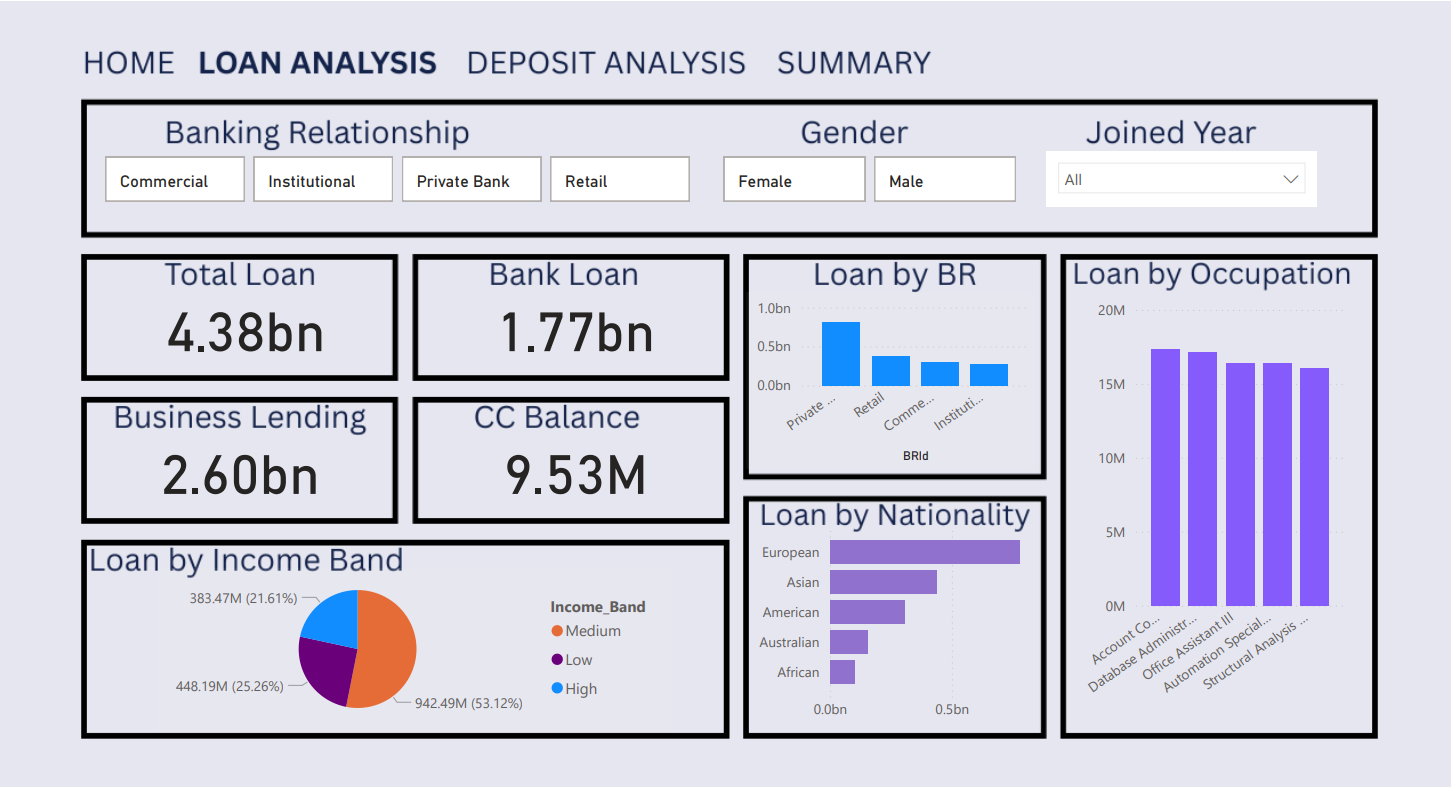

The page's visual inventory and layout, read from the dashboard file:
{"tool":"powerbi","page":{"name":"Loan Analysis","canvas":[1280,720],"ordinal":1},"visuals":[{"type":"actionButton","box":[61.4,31.9,99.4,40.5],"z":0},{"type":"card","fields":{"Values":["Sum(Banking.Business_Lending)"]},"box":[111.7,380.4,198.8,58.9],"z":1000},{"type":"card","fields":{"Values":["Banking.Total Loan"]},"box":[122.1,255.2,188,59],"z":2000},{"type":"card","fields":{"Values":["Sum(Banking.Bank_Loans)"]},"box":[410.3,255.2,189.4,59],"z":3000},{"type":"card","fields":{"Values":["Sum(Banking.Credit_Card_Balance)"]},"box":[410.3,380.1,189.4,59],"z":4000},{"type":"pieChart","fields":{"Category":["Banking.Income_Band"],"Y":["Sum(Banking.Bank_Loans)"]},"box":[139.9,496.9,449.1,142.3],"z":5000},{"type":"clusteredColumnChart","fields":{"Category":["Banking.BRId"],"Y":["Sum(Banking.Bank_Loans)"]},"box":[655.2,255.2,252.8,154.6],"z":6000},{"type":"barChart","fields":{"Category":["Banking.Nationality"],"Y":["Sum(Banking.Bank_Loans)"]},"box":[655.2,449.1,263.8,190.2],"z":7000},{"type":"columnChart","fields":{"Category":["Banking.Occupation"],"Y":["Sum(Banking.Bank_Loans)"]},"box":[946.8,256.6,237.4,363.6],"z":8000},{"type":"advancedSlicerVisual","fields":{"Values":["Banking.BRId"]},"box":[87.8,131.7,524.2,49.4],"z":9000},{"type":"advancedSlicerVisual","fields":{"Values":["Banking.GenderId"]},"box":[629.8,131.7,267.6,49.4],"z":10000},{"type":"slicer","fields":{"Values":["Banking.Joined_Year"]},"box":[918,131.7,237.4,49.4],"z":11000},{"type":"actionButton","box":[410.3,32.9,244.3,39.8],"z":12000},{"type":"actionButton","box":[677.9,31.6,140,39.8],"z":12001}]}

Visuals, with their boxes on the page's 1280x720 design canvas (x1, y1, x2, y2). These are canvas units, not pixel positions in the 1451x787 screenshot, which may show the page scaled, cropped or inside an application window:
actionButton: select_region(61, 32, 161, 72)
card - Sum(Banking.Business_Lending): select_region(112, 380, 310, 439)
card - Banking.Total Loan: select_region(122, 255, 310, 314)
card - Sum(Banking.Bank_Loans): select_region(410, 255, 600, 314)
card - Sum(Banking.Credit_Card_Balance): select_region(410, 380, 600, 439)
pieChart - Banking.Income_Band x Sum(Banking.Bank_Loans): select_region(140, 497, 589, 639)
clusteredColumnChart - Banking.BRId x Sum(Banking.Bank_Loans): select_region(655, 255, 908, 410)
barChart - Banking.Nationality x Sum(Banking.Bank_Loans): select_region(655, 449, 919, 639)
columnChart - Banking.Occupation x Sum(Banking.Bank_Loans): select_region(947, 257, 1184, 620)
advancedSlicerVisual - Banking.BRId: select_region(88, 132, 612, 181)
advancedSlicerVisual - Banking.GenderId: select_region(630, 132, 897, 181)
slicer - Banking.Joined_Year: select_region(918, 132, 1155, 181)
actionButton: select_region(410, 33, 655, 73)
actionButton: select_region(678, 32, 818, 71)
